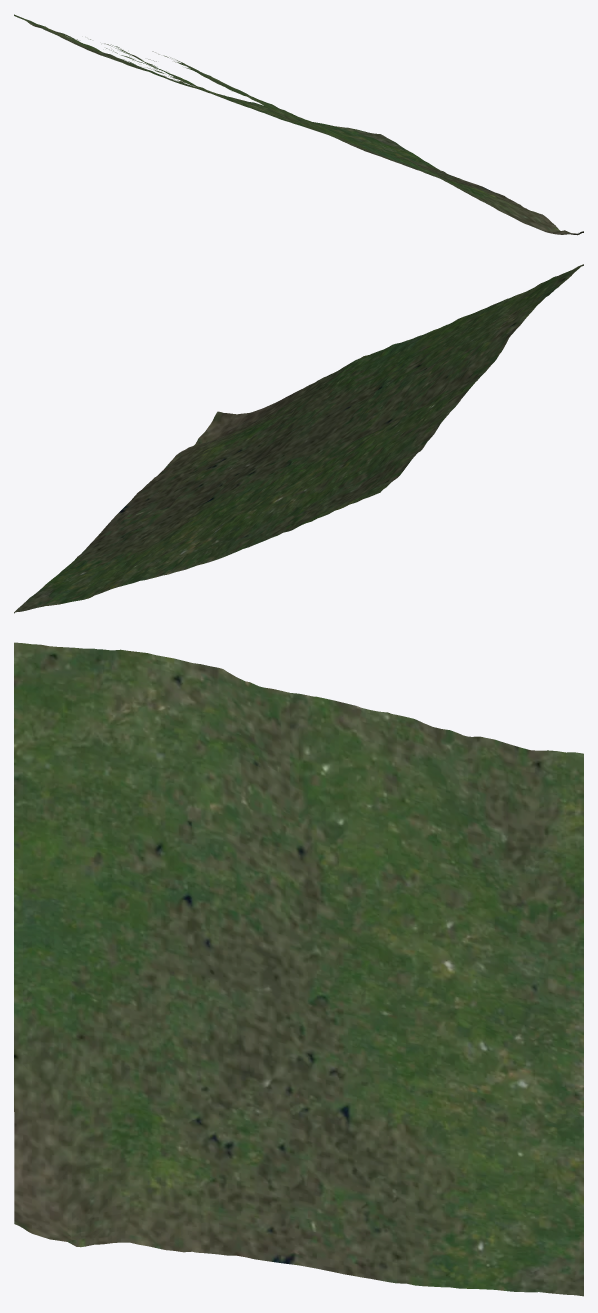
3 renders of one model, top to bottom at view 1: azimuth 30°, elevation 25°; view 2: azimuth 150°, elevation 25°; view 3: azimuth 270°, elevation 25°, orthographic. The views are drawn at different scales.
Bounding box in the file's own units: 250 × 189 × 241.
Materials: 1 (1 with a texture image).
